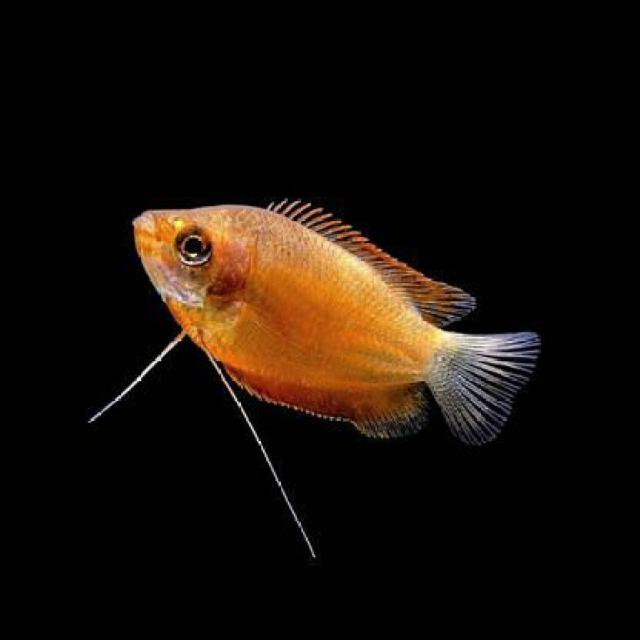Gourami: (128, 194, 542, 443)
